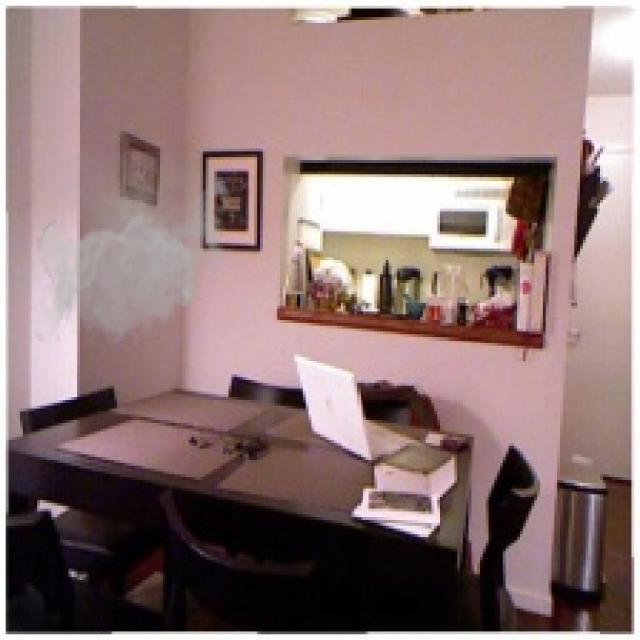Smoke: (34, 152, 237, 352)
